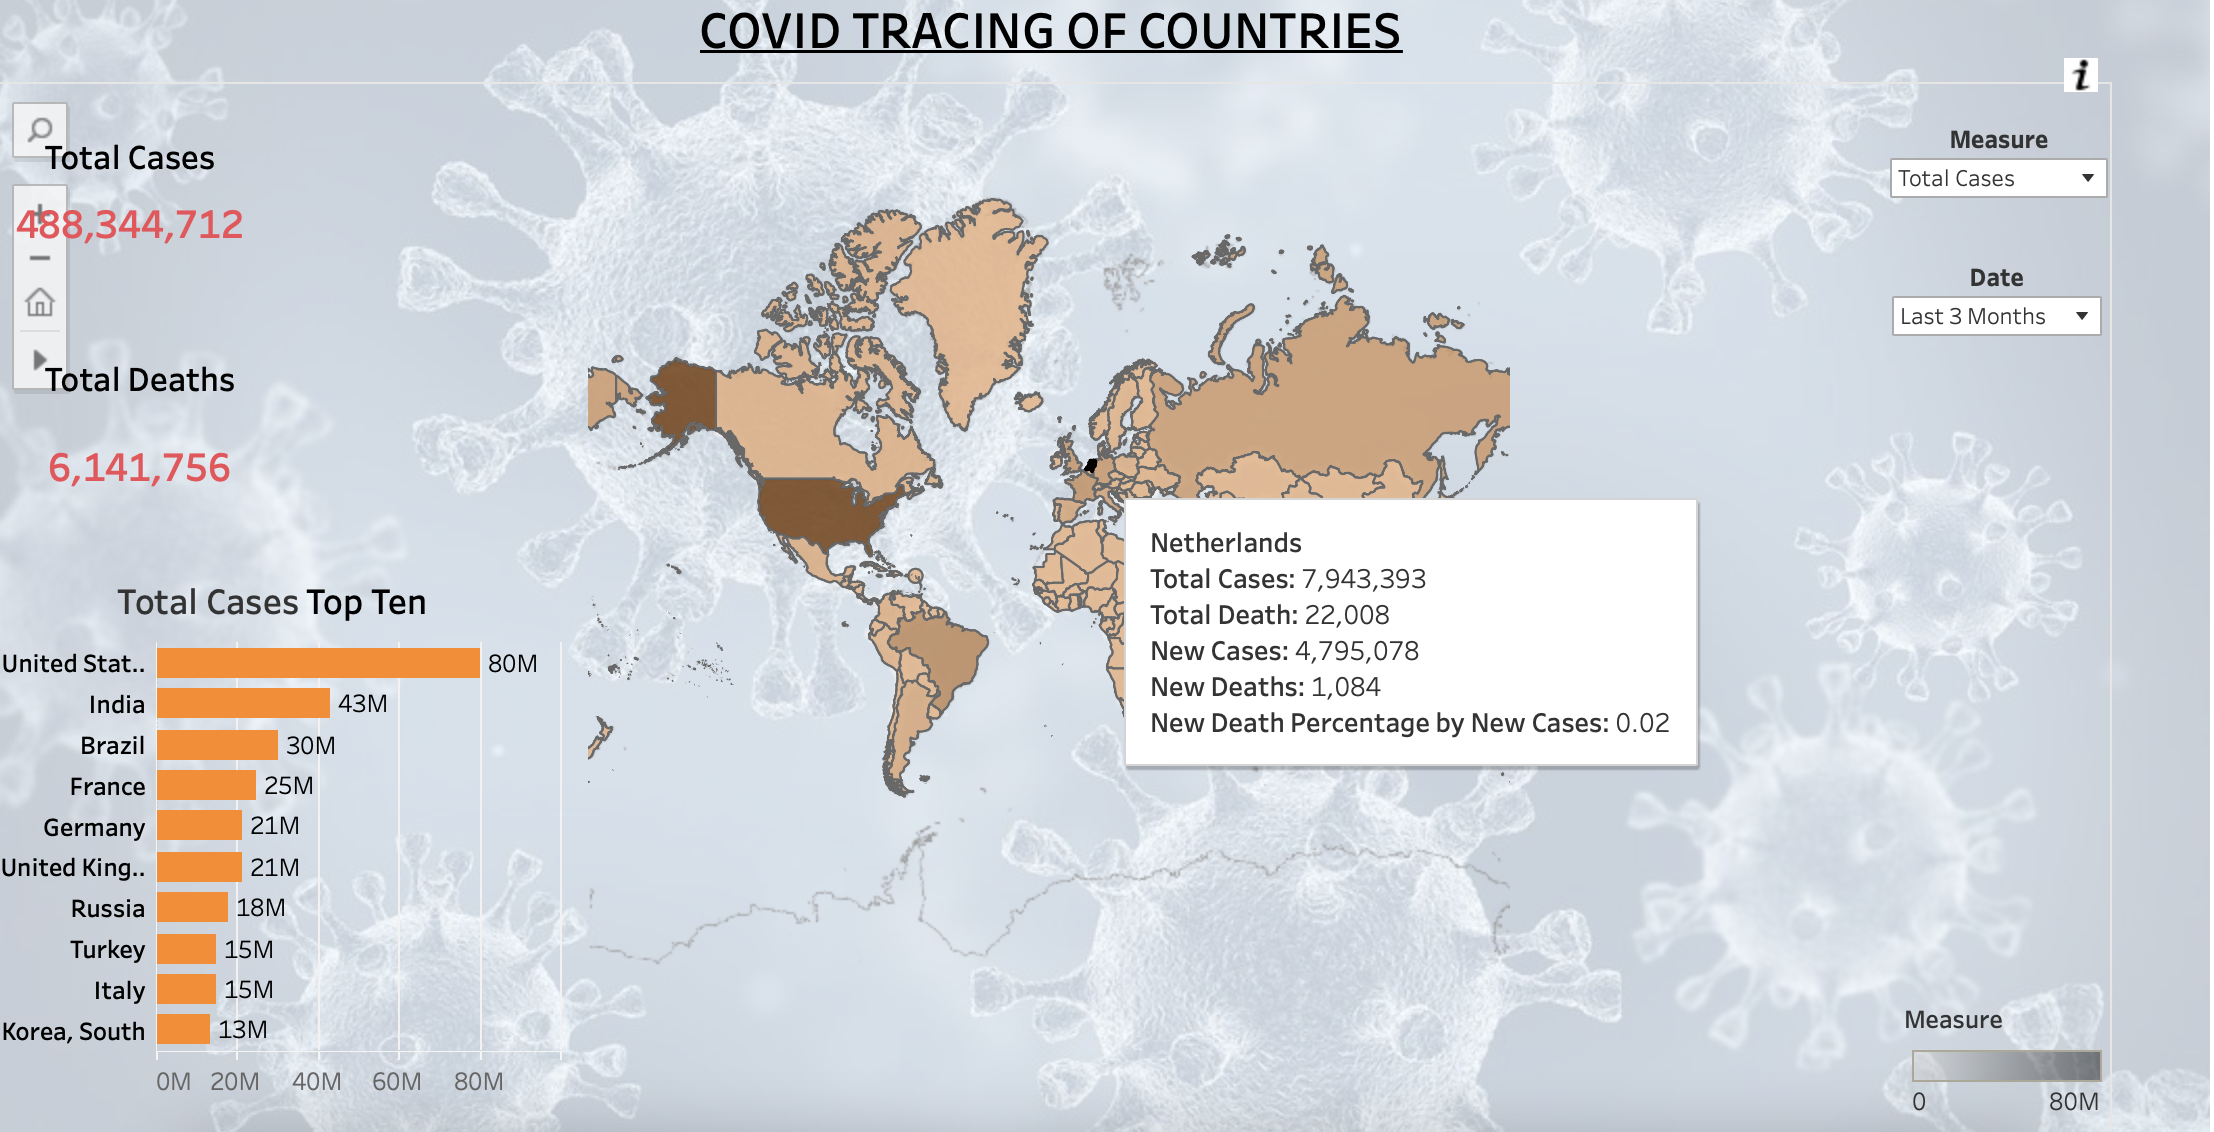

Layout of this report page (visuals, bound fields, positions):
{"tool":"tableau","page":{"name":"Dashboard 3","canvas":[1000,1000],"units":"permille","ordinal":2},"visuals":[{"type":"image","param":"Image/covid19._4png (1).png","box":[5,9.8,990,980.4]},{"type":"worksheet","title":"MAP_color","mark":"Automatic","box":[7.8,13.5,938.7,719.6]},{"type":"worksheet","title":"info","mark":"Shape","cols":["Calculation_1060316259447742465"],"box":[916.9,42.2,30.3,52.4]},{"type":"parameter","param":"[Parameters].[Parameter 4]","box":[847.1,96.3,97.6,79.4]},{"type":"worksheet","title":"Total_Pos_Case","mark":"Automatic","box":[6.9,96.6,169.6,107.6]},{"type":"parameter","param":"[Parameters].[Parameter 3]","box":[848,180.7,94.1,79.4]},{"type":"worksheet","title":"Total_Death_2","mark":"Automatic","box":[6.9,231.1,132.8,105.1]},{"type":"worksheet","title":"Top_Ten","mark":"Automatic","rows":["country_short_name"],"cols":["Calculation_1326521217691525126"],"box":[9.5,366.6,251.3,332.8]},{"type":"legend","title":"MAP_color","param":"[federated.10m1s8q1e9dhwn15innzv14vp22z].[usr:Calculation_1326521217691525126:qk","box":[854.1,633.5,90.7,96.3]},{"type":"worksheet","title":"Daily Results","mark":"Automatic","rows":["Calculation_1326521217649917955","people_positive_new_cases_count","people_death_new_count"],"cols":["country_short_name","report_date"],"box":[7.8,733.1,474.1,244.9]},{"type":"worksheet","title":"Total Results","mark":"Bar","rows":["people_positive_cases_count","people_death_count"],"cols":["country_short_name","report_date"],"box":[481,734.8,462.9,243.2]}]}

Visuals, with their boxes on the dashboard's canvas, which has no fixed pixel size, in thousandths of its width and height (x1, y1, x2, y2). These are canvas units, not pixel positions in the 2214x1132 screenshot, which may show the page scaled, cropped or inside an application window:
image: detection(5, 10, 995, 990)
"MAP_color" worksheet: detection(8, 14, 946, 733)
"info" worksheet (Shape marks): detection(917, 42, 947, 95)
parameter: detection(847, 96, 945, 176)
"Total_Pos_Case" worksheet: detection(7, 97, 176, 204)
parameter: detection(848, 181, 942, 260)
"Total_Death_2" worksheet: detection(7, 231, 140, 336)
"Top_Ten" worksheet: detection(10, 367, 261, 699)
"MAP_color" legend: detection(854, 634, 945, 730)
"Daily Results" worksheet: detection(8, 733, 482, 978)
"Total Results" worksheet (Bar marks): detection(481, 735, 944, 978)
